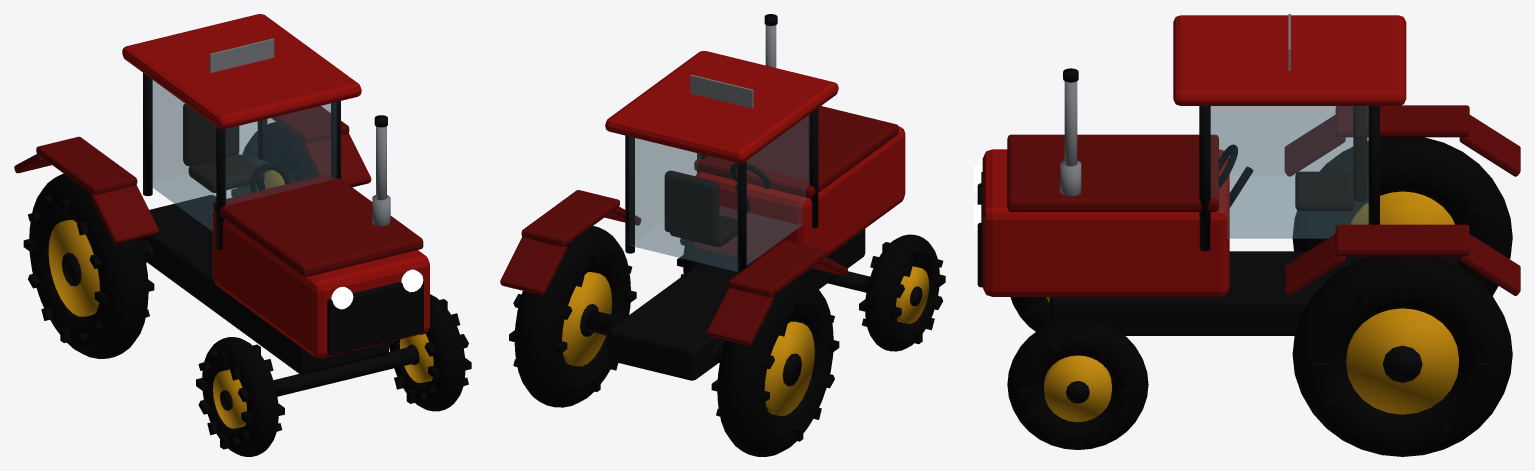
File: tractor.glb
3 renders of one model, left to right at view 1: azimuth 30°, elevation 25°; view 2: azimuth 150°, elevation 25°; view 3: azimuth 270°, elevation 25°, orthographic. The views are drawn at different scales.
Visible parts, largest first — view 1: Cube.004, Cube.005, Cube.002, Cube.001, Torus.001, Cube, Cube.003, Torus.003, Torus.004, Cylinder.012, Cube.009, Cube.010 (+16 smaller); view 2: Cube.004, Cube.005, Cube.001, Cube, Torus.001, Torus.002, Cube.002, Torus.003, Cube.008, Cylinder.012, Cube.009, Cube.012 (+14 smaller); view 3: Torus.002, Cube.001, Cube.005, Cube.004, Cube.002, Cube, Torus.001, Torus.004, Cylinder.014, Cube.012, Cube.009, Cylinder.018 (+14 smaller).
Part boxes in pixels (x1,y1,x2,y2): Cube.004: (152,79,336,231); Cube.005: (122,14,361,129); Cube.002: (213,173,423,276); Cube.001: (213,212,429,358); Torus.001: (29,173,148,358); Cube: (140,195,389,374); Cube.003: (327,278,423,355); Torus.003: (202,337,278,456); Torus.004: (389,294,465,411); Cylinder.012: (48,220,99,316); Cube.009: (36,136,137,194); Cube.010: (90,185,159,244); Cube.004: (629,114,809,271); Cube.005: (605,51,838,162); Cube.001: (694,126,905,261); Cube: (608,229,865,380); Torus.001: (717,276,833,456); Torus.002: (514,226,630,407); Cube.002: (694,106,898,197); Torus.003: (865,234,939,351); Cube.008: (664,170,719,242); Cylinder.012: (764,321,814,415); Cube.009: (728,240,826,297); Cube.012: (521,190,619,246); Torus.002: (1292,256,1512,456); Cube.001: (982,149,1229,296); Cube.005: (1173,15,1406,105); Cube.004: (1210,106,1368,238); Cube.002: (1007,134,1218,211); Cube: (1049,251,1458,335); Torus.001: (1292,137,1512,295); Torus.004: (1007,318,1148,449); Cylinder.014: (1346,308,1458,414); Cube.012: (1335,224,1469,256); Cube.009: (1335,105,1469,137); Cylinder.018: (1044,355,1111,422).
Bounding box in the file's own units: 2.47 × 2.85 × 3.87.
